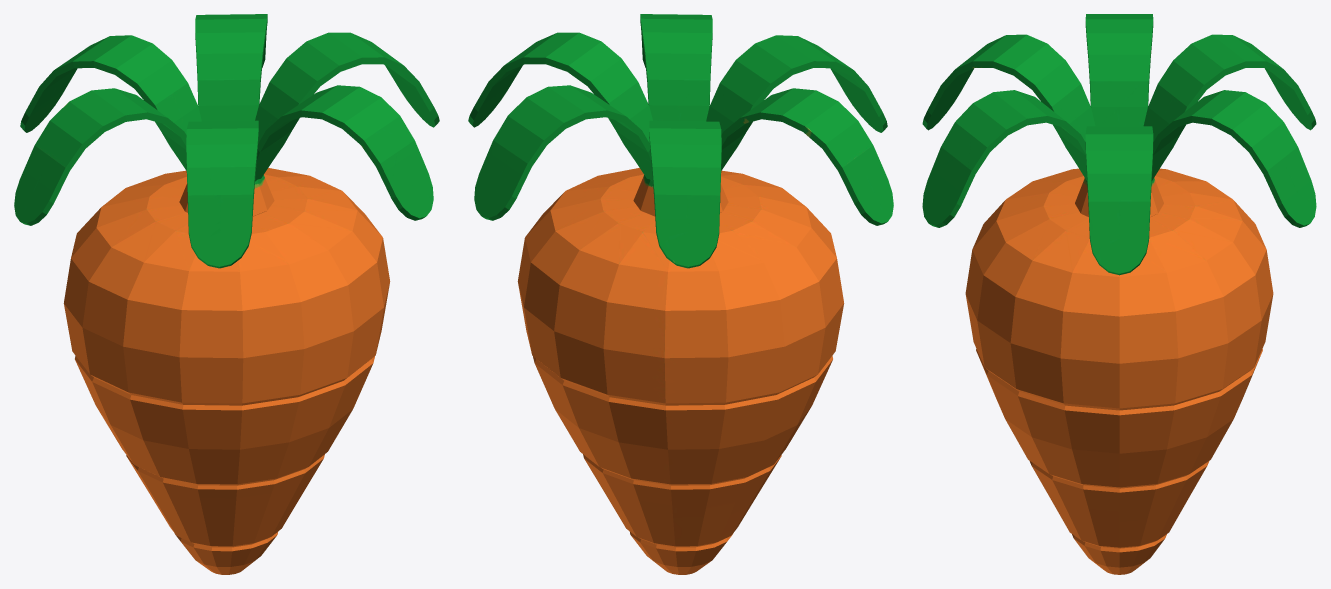
Rendered from carrot.glb.
3 renders of one model, left to right at view 1: azimuth 30°, elevation 25°; view 2: azimuth 150°, elevation 25°; view 3: azimuth 270°, elevation 25°, orthographic.
Parts seen in each view (by area): view 1: unnamed 2, unnamed; view 2: unnamed 2, unnamed; view 3: unnamed 2, unnamed.
Part boxes in pixels (bbox=[...]): unnamed 2: bbox=[63, 168, 390, 574]; unnamed: bbox=[14, 14, 439, 268]; unnamed 2: bbox=[517, 168, 844, 574]; unnamed: bbox=[468, 14, 893, 268]; unnamed 2: bbox=[965, 168, 1273, 574]; unnamed: bbox=[922, 14, 1316, 275].
Size of the model in its own units: 0.8624 by 0.9931 by 0.7155.
2 materials, 2 textured.
